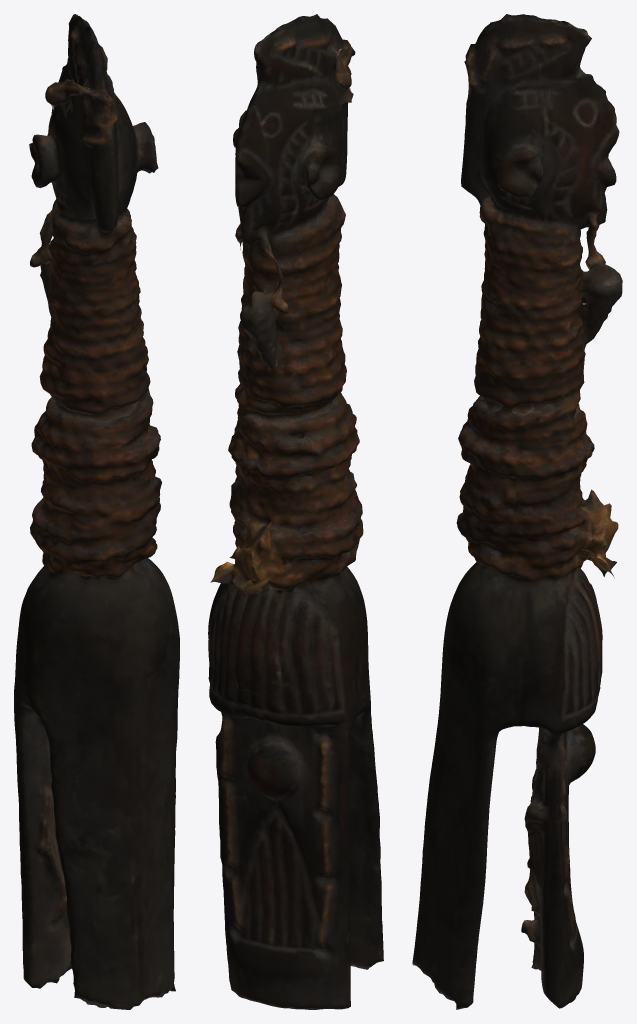
The model's file is preview.glb.
3 renders of one model, left to right at view 1: azimuth 30°, elevation 25°; view 2: azimuth 150°, elevation 25°; view 3: azimuth 270°, elevation 25°, orthographic. The views are drawn at different scales.
Parts seen in each view (by area): view 1: Object_2; view 2: Object_2; view 3: Object_2.
Boxes of the visible parts, x1,y1,x2,y2 form: Object_2: [14, 14, 179, 1009]; Object_2: [208, 14, 383, 1009]; Object_2: [412, 14, 622, 1009].
Size of the model in its own units: 73.95 by 472 by 92.5.
Materials: 1 (1 with a texture image).
